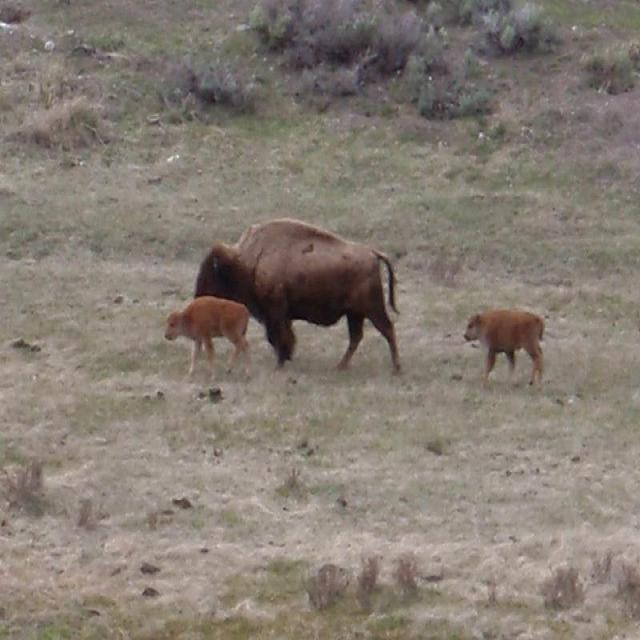cow: (190, 217, 400, 371), (160, 292, 250, 383), (461, 309, 546, 391)
